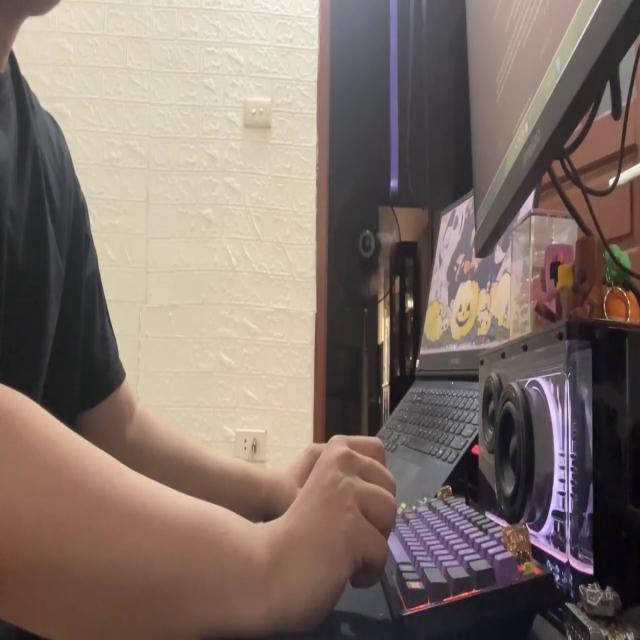laptop: (348, 172, 542, 518), (461, 4, 640, 245)
student: (0, 0, 397, 640)
